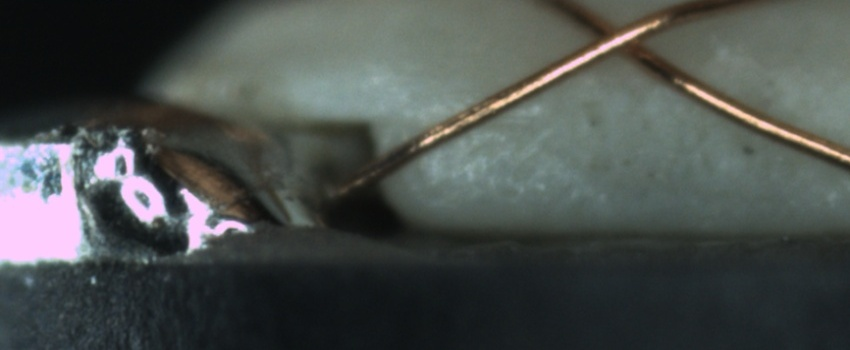CL: (565, 4, 668, 70)
DL: (426, 103, 539, 151)
